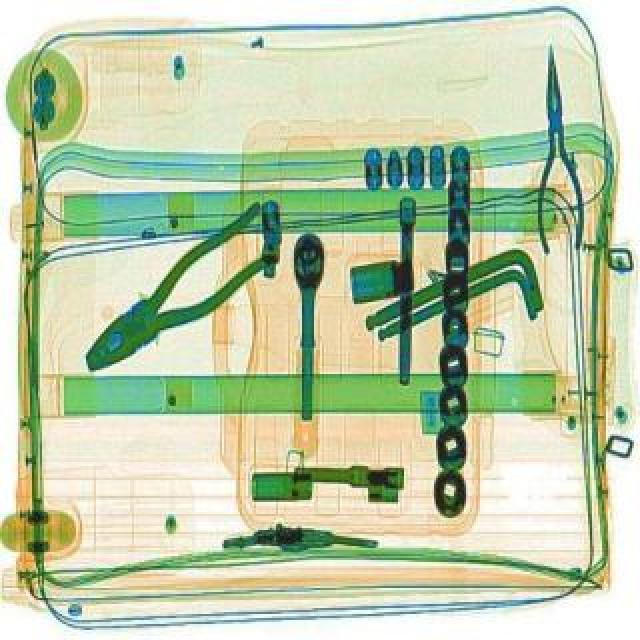gun: (222, 520, 380, 556)
wrench: (60, 200, 300, 390), (528, 42, 584, 252)
